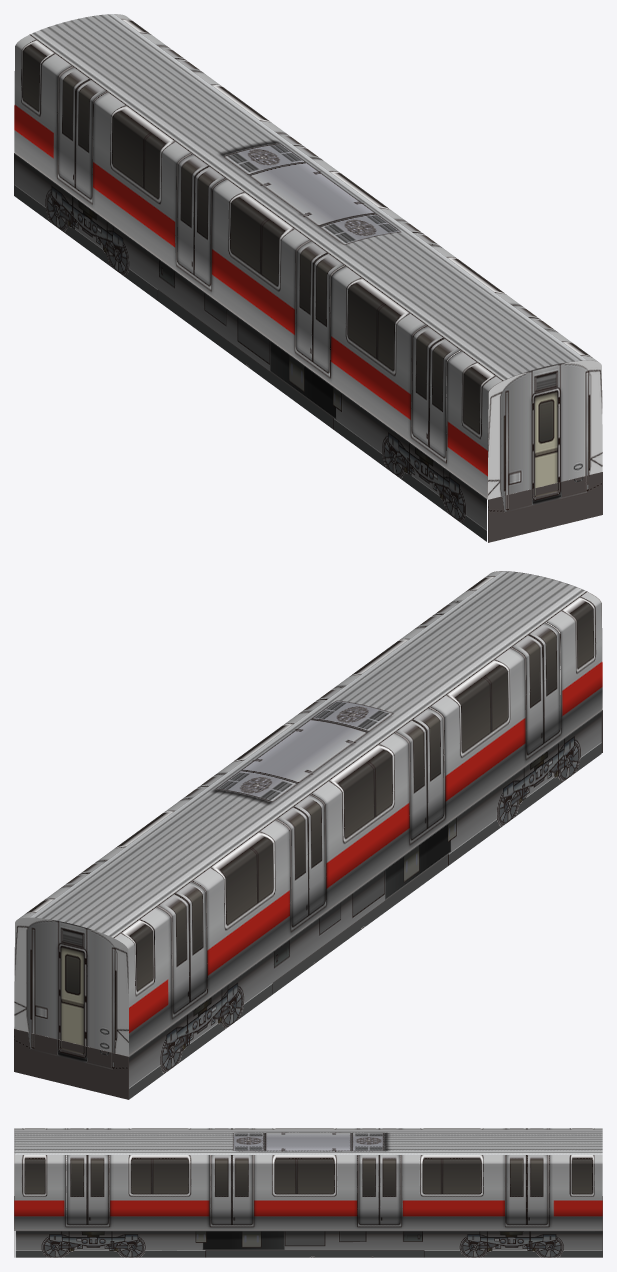
Rendered from car2.glb.
3 renders of one model, top to bottom at view 1: azimuth 30°, elevation 25°; view 2: azimuth 150°, elevation 25°; view 3: azimuth 270°, elevation 25°, orthographic. The views are drawn at different scales.
Visible parts, largest first — view 1: tokyu-5080-car2; view 2: tokyu-5080-car2; view 3: tokyu-5080-car2.
Part boxes in pixels (box(x1,y1,x2,y2)): tokyu-5080-car2: box(14, 14, 602, 542); tokyu-5080-car2: box(14, 571, 602, 1099); tokyu-5080-car2: box(14, 1128, 602, 1257).
Bounding box in the file's own units: 2.8 × 3.77 × 20.03.
8 materials, 7 textured.
